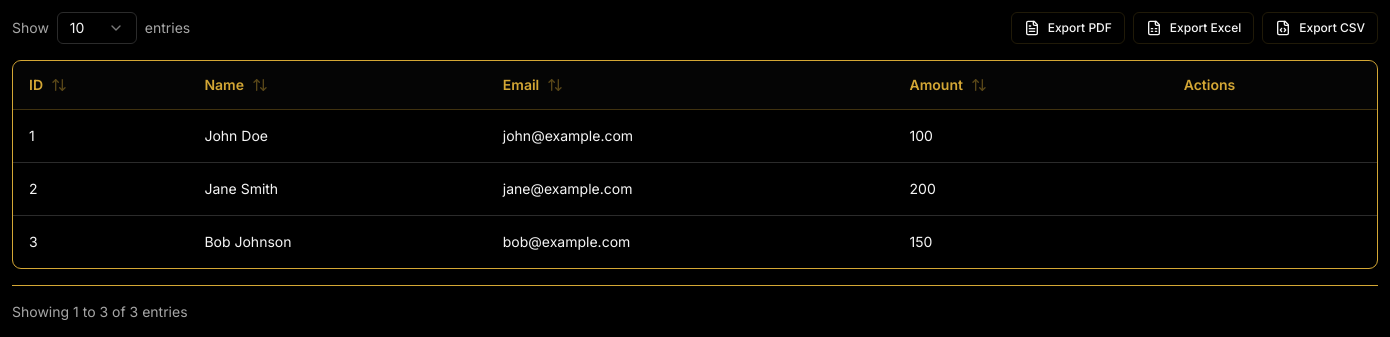
it: DataTable › sorts data in descending order when column header is clicked twice
Click the button "Name" at (236, 85), box [204, 75, 268, 95]
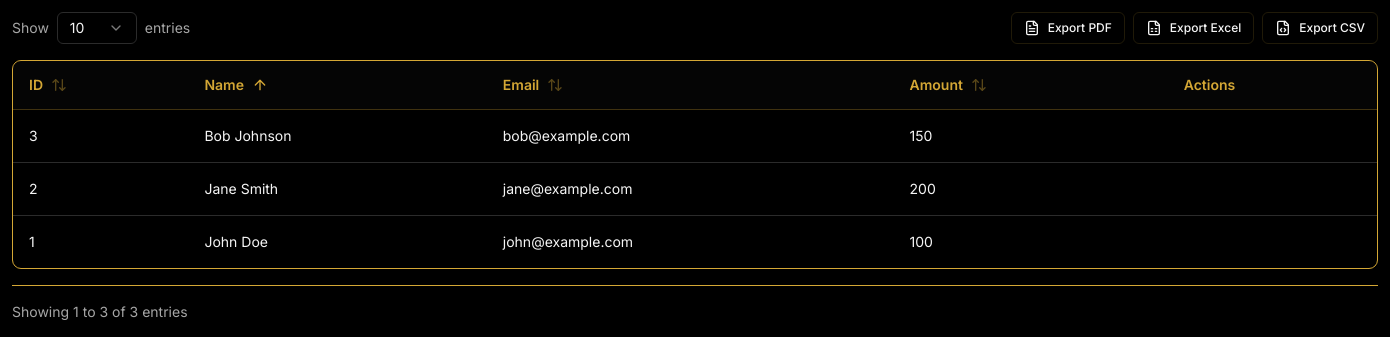
Click the button "Name" at (236, 85), box [204, 75, 268, 95]
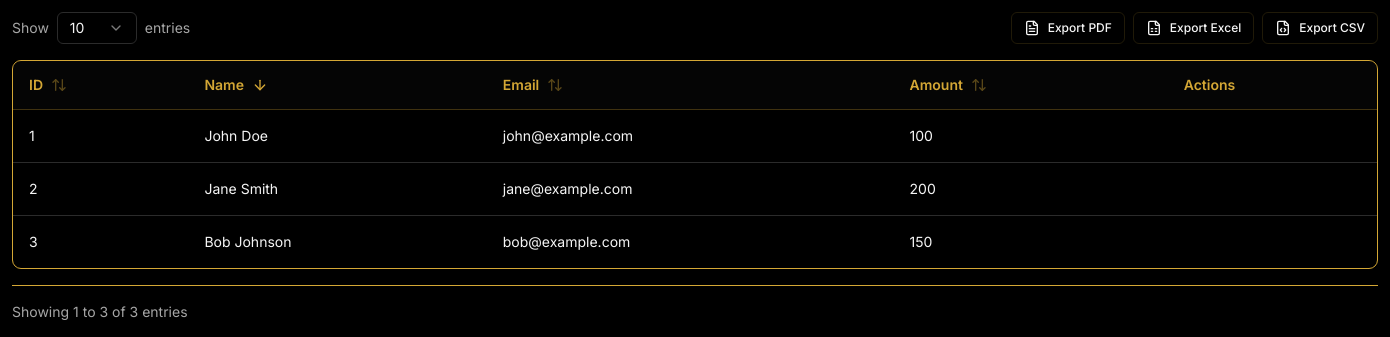
Expected: the row with test id "^row-" shows "Jane Smith", [204, 180, 278, 196]
Expected: the row with test id "^row-" shows "John Doe", [204, 126, 268, 144]
Expected: the row with test id "^row-" shows "Bob Johnson", [204, 232, 292, 250]
